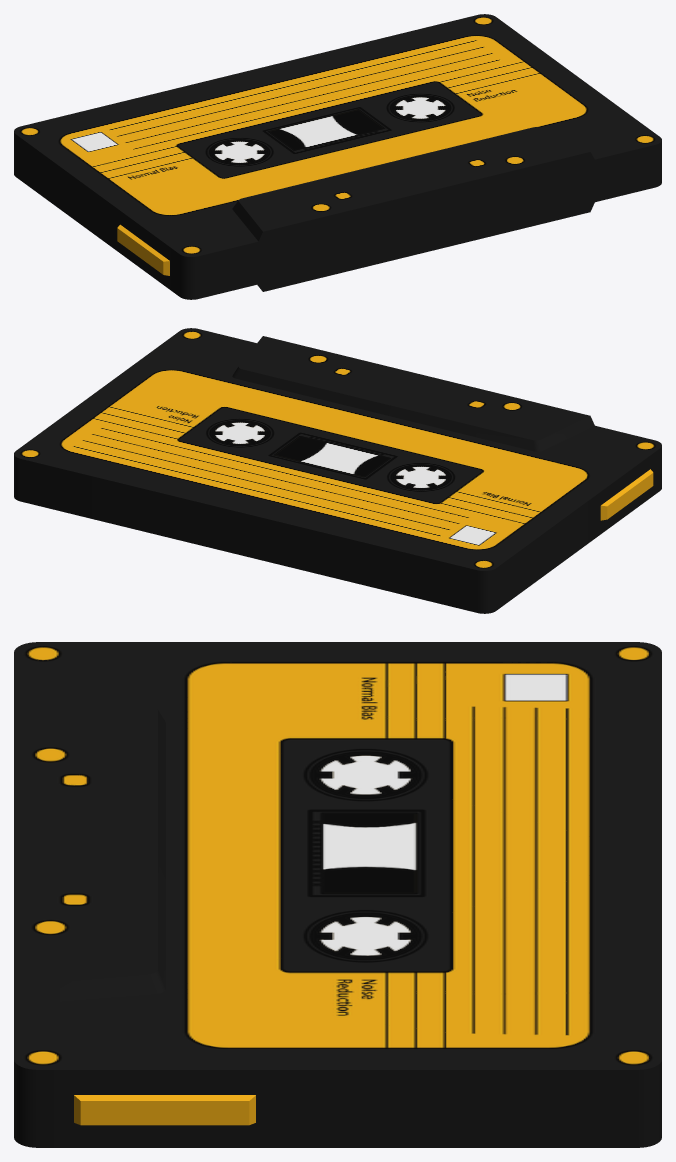
File: cassette.glb
3 renders of one model, top to bottom at view 1: azimuth 30°, elevation 25°; view 2: azimuth 150°, elevation 25°; view 3: azimuth 270°, elevation 25°, orthographic. The views are drawn at different scales.
Visible parts, largest first — view 1: Object_2; view 2: Object_2; view 3: Object_2.
Boxes of the visible parts, bbox=[...] form: Object_2: bbox=[14, 14, 661, 299]; Object_2: bbox=[14, 328, 661, 613]; Object_2: bbox=[14, 642, 661, 1147].
Size of the model in its own units: 0.102 by 0.012 by 0.064.
Materials: 1 (1 with a texture image).
